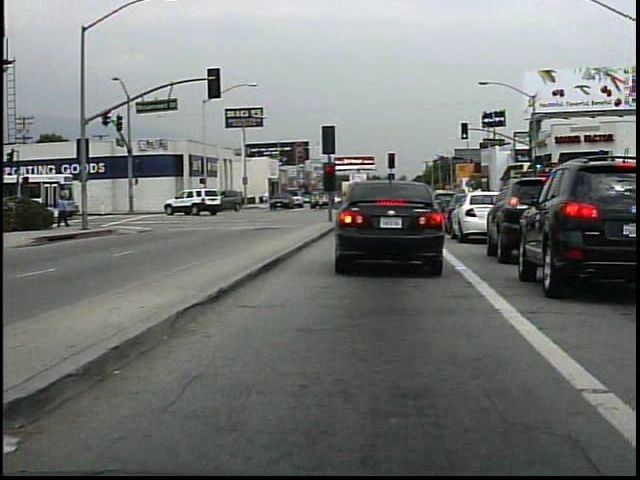person: (57, 192, 74, 232), (262, 187, 271, 209)
